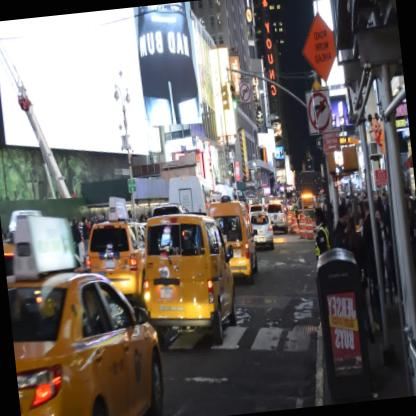car: (7, 265, 168, 415), (138, 211, 241, 353), (80, 220, 154, 310), (206, 196, 260, 288), (247, 209, 275, 252), (266, 200, 290, 235)
